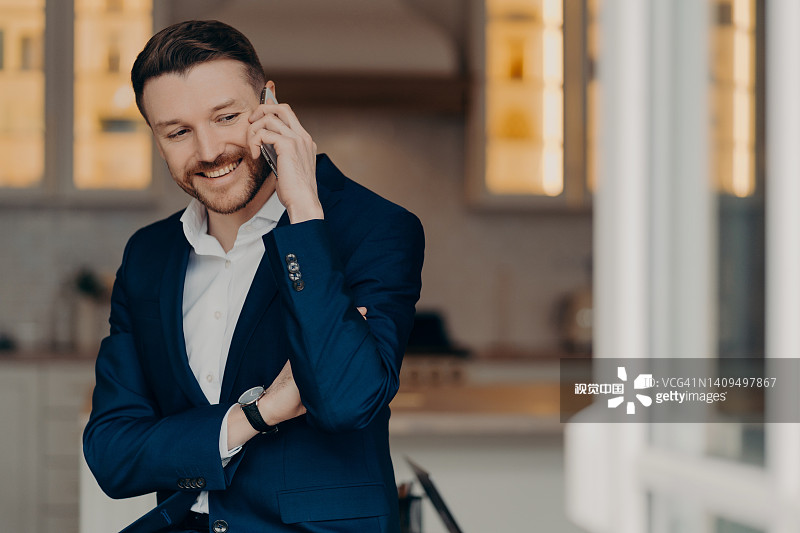calling: (241, 79, 339, 234)
